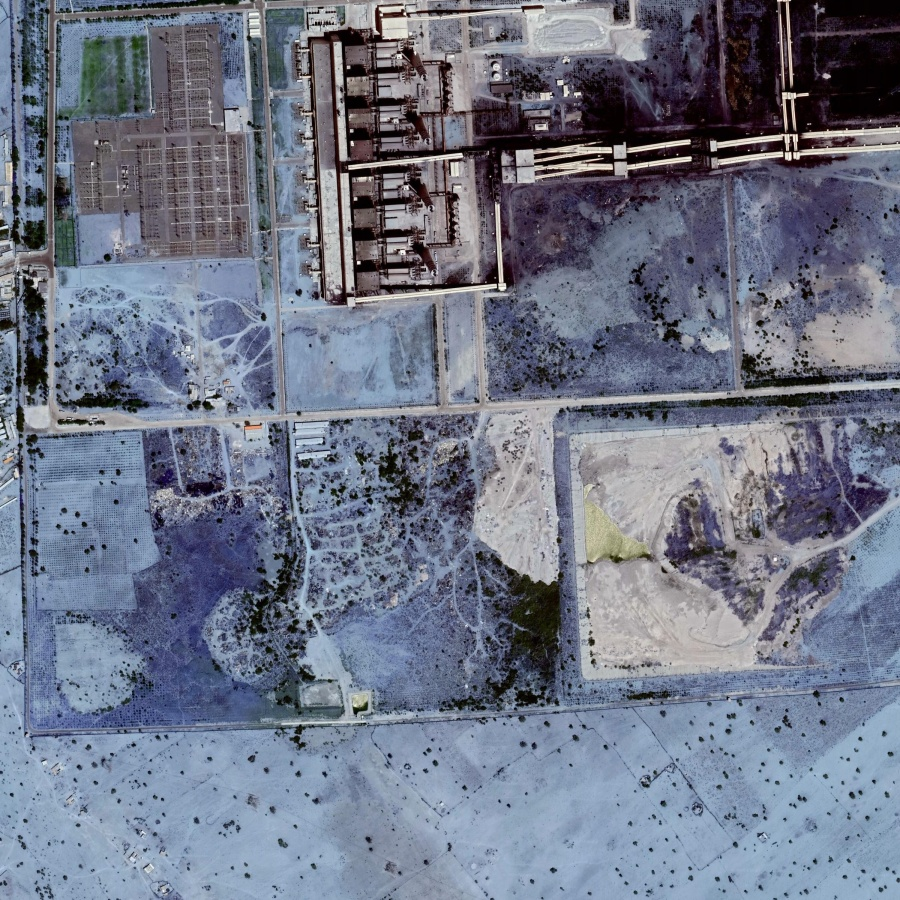PowerPlant: (303, 9, 502, 294)
